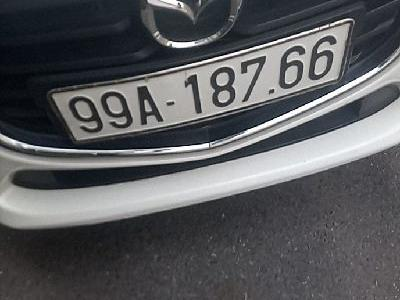number: (50, 21, 352, 145)
